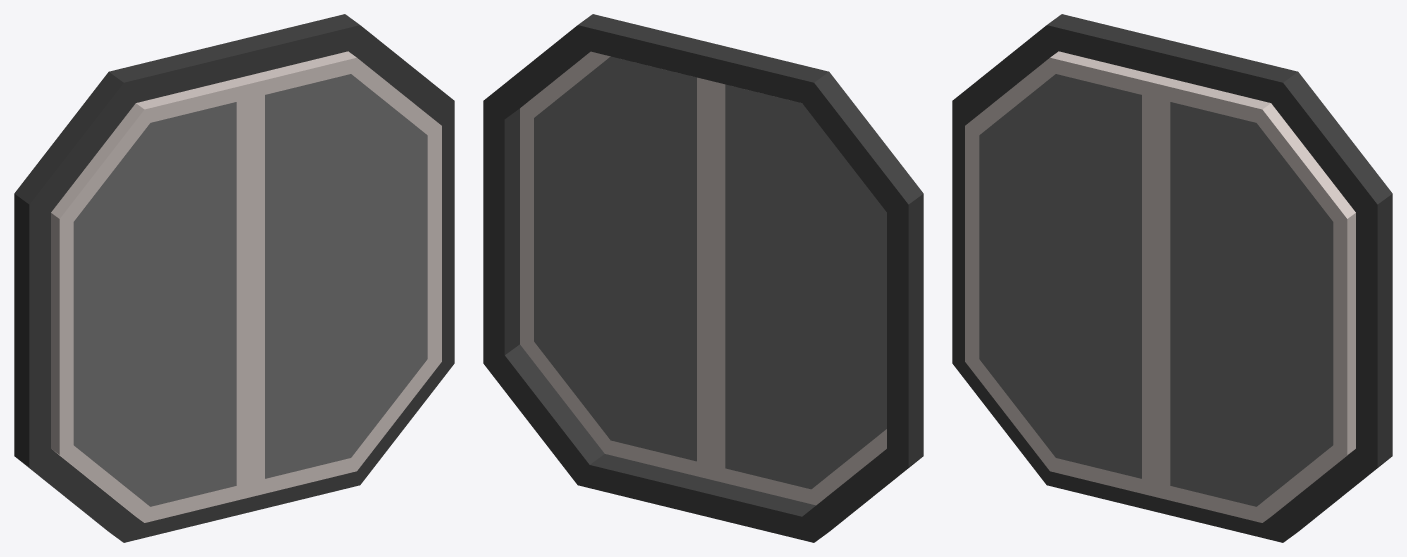
The model's file is Door.fbx.
3 renders of one model, left to right at view 1: azimuth 30°, elevation 25°; view 2: azimuth 150°, elevation 25°; view 3: azimuth 330°, elevation 25°, orthographic.
Parts seen in each view (by area): view 1: Door.001, Door.002, Frame; view 2: Door.002, Door.001, Frame; view 3: Door.002, Door.001, Frame.
Part boxes in pixels (x1=…): Door.001: x1=51, y1=77, x2=250, y2=522; Door.002: x1=242, y1=51, x2=441, y2=496; Frame: x1=14, y1=14, x2=454, y2=542; Door.002: x1=520, y1=51, x2=710, y2=479; Door.001: x1=711, y1=81, x2=886, y2=505; Frame: x1=483, y1=14, x2=923, y2=542; Door.002: x1=1156, y1=77, x2=1355, y2=522; Door.001: x1=965, y1=51, x2=1164, y2=496; Frame: x1=952, y1=14, x2=1392, y2=542.
Bounding box in the file's own units: 393 × 407 × 38.19.
